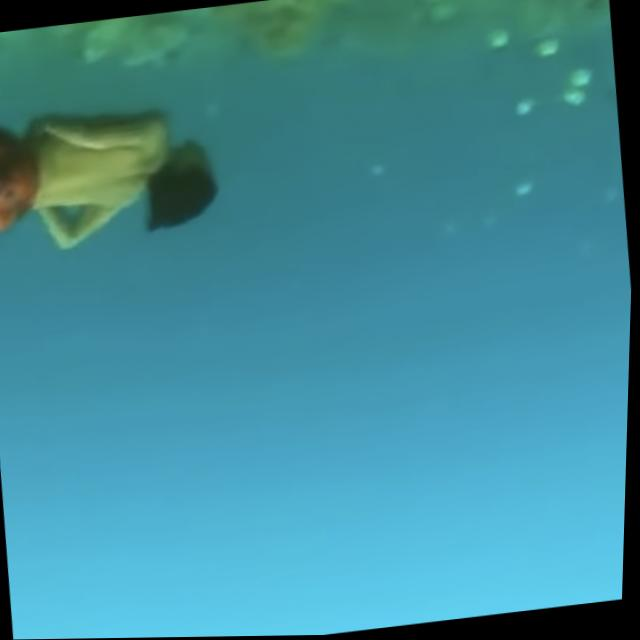human: (0, 84, 235, 267)
